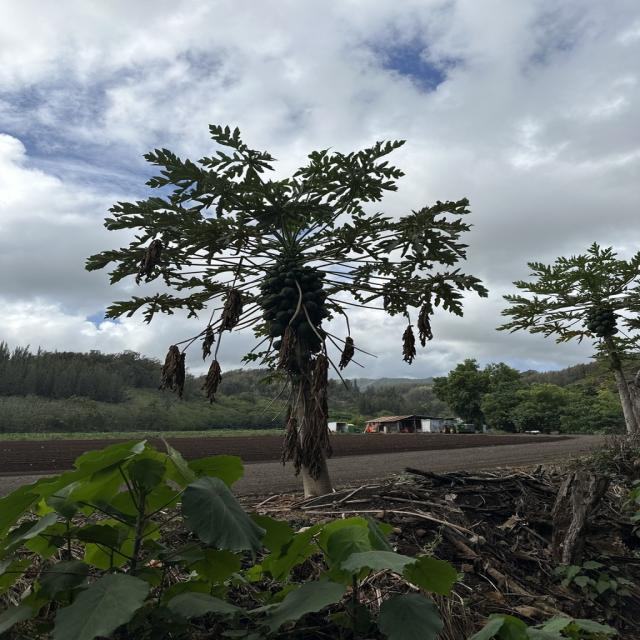Papaya-Tree: (158, 157, 407, 499), (527, 260, 640, 438)
